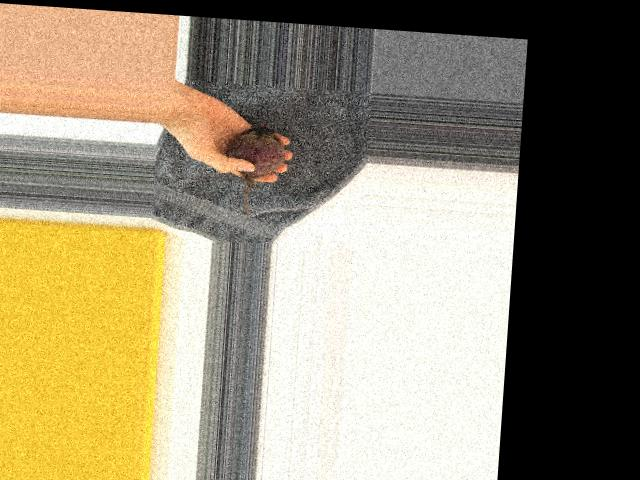beet: (223, 123, 288, 222)
